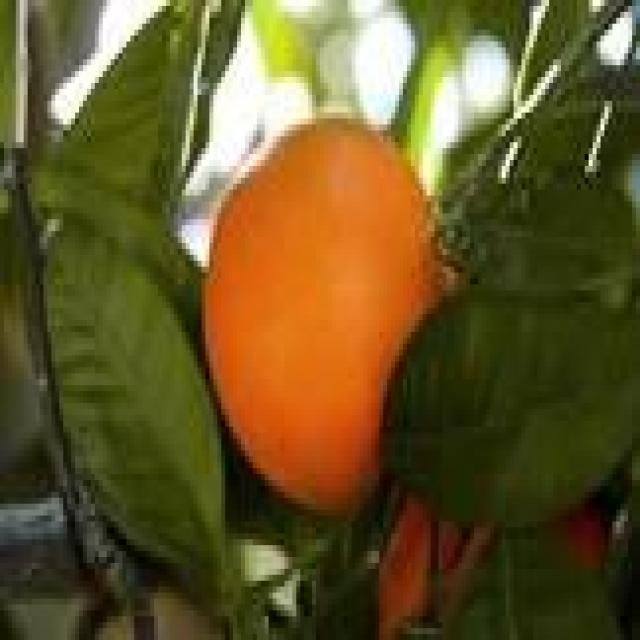Ripe: (191, 111, 447, 526)
